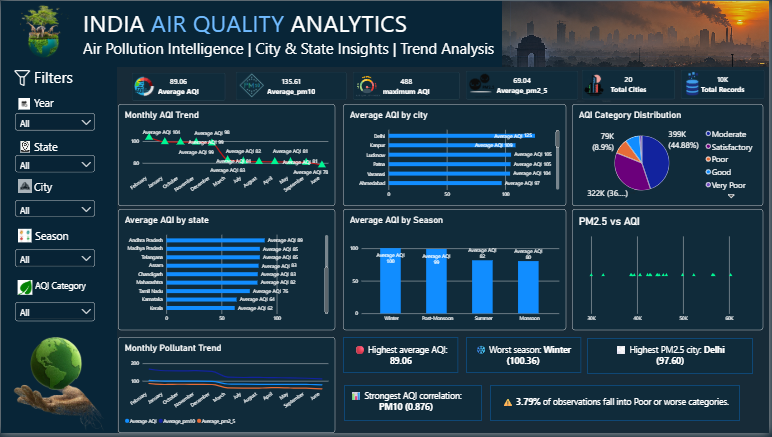

Layout of this report page (visuals, bound fields, positions):
{"tool":"powerbi","page":{"name":"Page 1","canvas":[1920,1080],"ordinal":0},"visuals":[{"type":"textbox","box":[10,0,280,280],"z":0},{"type":"image","box":[1272.5,0,647.5,140],"z":1},{"type":"shape","box":[0,156.7,290,923.3],"z":3},{"type":"slicer","fields":{"Values":["airr quality.state","airr quality.city"]},"box":[35.5,385.5,200,42.7],"z":4},{"type":"textbox","box":[83.6,444.5,140.4,54],"z":5},{"type":"image","box":[36.4,444.5,45.5,34.5],"z":6},{"type":"slicer","fields":{"Values":["airr quality.city"]},"box":[35.5,498.2,200,41.8],"z":7},{"type":"textbox","box":[83.6,345.5,65,40],"z":8},{"type":"image","box":[36.4,350.9,45.6,28.9],"z":9},{"type":"slicer","fields":{"Values":["airr quality.Year"]},"box":[35.5,280,200,43.6],"z":10},{"type":"textbox","box":[83.3,165,123.3,55],"z":11},{"type":"image","box":[30,173.3,45,40],"z":12},{"type":"textbox","box":[83.6,234.5,80,45],"z":13},{"type":"image","box":[43.6,242.7,30.9,29.1],"z":14},{"type":"textbox","box":[84.3,568.6,115,37.5],"z":15},{"type":"image","box":[43.3,568.3,34.2,38.3],"z":16},{"type":"slicer","fields":{"Values":["airr quality.Season"]},"box":[35,620,200,45],"z":17},{"type":"textbox","box":[84.4,697.8,168.6,37.1],"z":18},{"type":"image","box":[36.7,697.8,44.4,36.7],"z":19},{"type":"slicer","fields":{"Values":["airr quality.AQI_Category"]},"box":[35,751.7,200,48.3],"z":20},{"type":"image","box":[0,815,290,265],"z":22},{"type":"shape","box":[0,0,1920,165],"z":23},{"type":"textbox","box":[205,15,1207.5,150],"z":24},{"type":"shape","box":[1272.5,0,647.5,140],"z":25},{"type":"image","box":[1252.5,0,667.5,165],"z":26},{"type":"image","box":[0,0,207.5,150],"z":27},{"type":"cardVisual","fields":{"Data":["airr quality.avg_aqi"]},"box":[327.8,181.1,232.9,68.6],"z":28},{"type":"cardVisual","fields":{"Data":["airr quality.avg_pm10"]},"box":[586.7,177.8,276.4,70],"z":29},{"type":"cardVisual","fields":{"Data":["airr quality.avg_pm2.5"]},"box":[1162.2,175.6,280,70.8],"z":30},{"type":"cardVisual","fields":{"Data":["airr quality.max_aqi"]},"box":[878.9,177.8,266.4,69.1],"z":31},{"type":"image","box":[290,165.6,136.7,100],"z":32},{"type":"image","box":[560,175.6,130.9,77.3],"z":33},{"type":"image","box":[863.3,181.1,105.4,60.8],"z":34},{"type":"image","box":[1144.4,175.6,116.7,66.7],"z":35},{"type":"cardVisual","fields":{"Data":["airr quality.Tot_cities"]},"box":[1452.2,173.3,232.1,72.9],"z":36},{"type":"image","box":[1413.3,164.4,140,91.4],"z":37},{"type":"cardVisual","fields":{"Data":["airr quality.Total Records"]},"box":[1701.1,173.3,208,72],"z":38},{"type":"image","box":[1667.8,171.1,121.3,74],"z":39},{"type":"lineChart","title":"Monthly AQI Trend","fields":{"Category":["airr quality.Month_Name"],"Y":["airr quality.Average AQI"]},"box":[292.5,257.5,542.5,255],"z":40},{"type":"clusteredBarChart","fields":{"Category":["airr quality.city"],"Y":["airr quality.Average AQI"]},"box":[855,257.5,557.5,255],"z":41},{"type":"pieChart","title":"AQI Category Distribution","fields":{"Category":["airr quality.AQI_Category"],"Y":["Sum(airr quality.AQI)"]},"box":[1427.5,257.5,477.5,255],"z":42},{"type":"barChart","fields":{"Category":["airr quality.state"],"Y":["airr quality.Average AQI"]},"box":[292.5,520,542.5,302.5],"z":43},{"type":"clusteredColumnChart","fields":{"Category":["airr quality.Season"],"Y":["airr quality.Average AQI"]},"box":[855,520,558,303],"z":44},{"type":"scatterChart","title":"PM2.5 vs AQI","fields":{"Category":["airr quality.city"],"X":["Sum(airr quality.AQI)"]},"box":[1427.5,520,477.5,302.5],"z":45},{"type":"lineChart","title":"Monthly Pollutant Trend","fields":{"Category":["airr quality.Month_Name"],"Y":["airr quality.Average AQI","airr quality.Average_pm10","airr quality.Average_pm2_5"]},"box":[292.5,840,542.5,240],"z":46},{"type":"shape","box":[856,840,288,90],"z":47},{"type":"textbox","box":[855,856.7,288.3,73.3],"z":48},{"type":"shape","box":[1161.7,840,288,90],"z":49},{"type":"shape","box":[1465,842.5,415,90],"z":50},{"type":"shape","box":[857.5,960,345,90],"z":51},{"type":"shape","box":[1222.5,960,625,90],"z":53},{"type":"textbox","box":[1165,857.5,280,72.5],"z":55},{"type":"textbox","box":[1252.5,987.5,627.5,62.5],"z":56},{"type":"textbox","box":[1522.5,857.5,300,60],"z":57},{"type":"textbox","box":[862.5,972.5,300,62.5],"z":58}]}

Visuals, with their boxes in screenshot pixels (x1, y1, x2, y2), scaled from the page's 1920x1080 canvas onto the 772x437 screenshot:
textbox: (left=4, top=0, right=117, bottom=113)
image: (left=512, top=0, right=771, bottom=57)
shape: (left=0, top=63, right=117, bottom=436)
slicer - airr quality.state x airr quality.city: (left=14, top=156, right=95, bottom=173)
textbox: (left=34, top=180, right=90, bottom=202)
image: (left=15, top=180, right=33, bottom=194)
slicer - airr quality.city: (left=14, top=202, right=95, bottom=218)
textbox: (left=34, top=140, right=60, bottom=156)
image: (left=15, top=142, right=33, bottom=154)
slicer - airr quality.Year: (left=14, top=113, right=95, bottom=131)
textbox: (left=33, top=67, right=83, bottom=89)
image: (left=12, top=70, right=30, bottom=86)
textbox: (left=34, top=95, right=66, bottom=113)
image: (left=18, top=98, right=30, bottom=110)
textbox: (left=34, top=230, right=80, bottom=245)
image: (left=17, top=230, right=31, bottom=245)
slicer - airr quality.Season: (left=14, top=251, right=94, bottom=269)
textbox: (left=34, top=282, right=102, bottom=297)
image: (left=15, top=282, right=33, bottom=297)
slicer - airr quality.AQI_Category: (left=14, top=304, right=94, bottom=324)
image: (left=0, top=330, right=117, bottom=436)
shape: (left=0, top=0, right=771, bottom=67)
textbox: (left=82, top=6, right=568, bottom=67)
shape: (left=512, top=0, right=771, bottom=57)
image: (left=504, top=0, right=771, bottom=67)
image: (left=0, top=0, right=83, bottom=61)
cardVisual - airr quality.avg_aqi: (left=132, top=73, right=225, bottom=101)
cardVisual - airr quality.avg_pm10: (left=236, top=72, right=347, bottom=100)
cardVisual - airr quality.avg_pm2.5: (left=467, top=71, right=580, bottom=100)
cardVisual - airr quality.max_aqi: (left=353, top=72, right=461, bottom=100)
image: (left=117, top=67, right=172, bottom=107)
image: (left=225, top=71, right=278, bottom=102)
image: (left=347, top=73, right=389, bottom=98)
image: (left=460, top=71, right=507, bottom=98)
cardVisual - airr quality.Tot_cities: (left=584, top=70, right=677, bottom=100)
image: (left=568, top=67, right=625, bottom=104)
cardVisual - airr quality.Total Records: (left=684, top=70, right=768, bottom=99)
image: (left=671, top=69, right=719, bottom=99)
"Monthly AQI Trend" lineChart: (left=118, top=104, right=336, bottom=207)
clusteredBarChart - airr quality.city x airr quality.Average AQI: (left=344, top=104, right=568, bottom=207)
"AQI Category Distribution" pieChart: (left=574, top=104, right=766, bottom=207)
barChart - airr quality.state x airr quality.Average AQI: (left=118, top=210, right=336, bottom=333)
clusteredColumnChart - airr quality.Season x airr quality.Average AQI: (left=344, top=210, right=568, bottom=333)
"PM2.5 vs AQI" scatterChart: (left=574, top=210, right=766, bottom=333)
"Monthly Pollutant Trend" lineChart: (left=118, top=340, right=336, bottom=436)
shape: (left=344, top=340, right=460, bottom=376)
textbox: (left=344, top=347, right=460, bottom=376)
shape: (left=467, top=340, right=583, bottom=376)
shape: (left=589, top=341, right=756, bottom=377)
shape: (left=345, top=388, right=484, bottom=425)
shape: (left=492, top=388, right=743, bottom=425)
textbox: (left=468, top=347, right=581, bottom=376)
textbox: (left=504, top=400, right=756, bottom=425)
textbox: (left=612, top=347, right=733, bottom=371)
textbox: (left=347, top=394, right=467, bottom=419)
